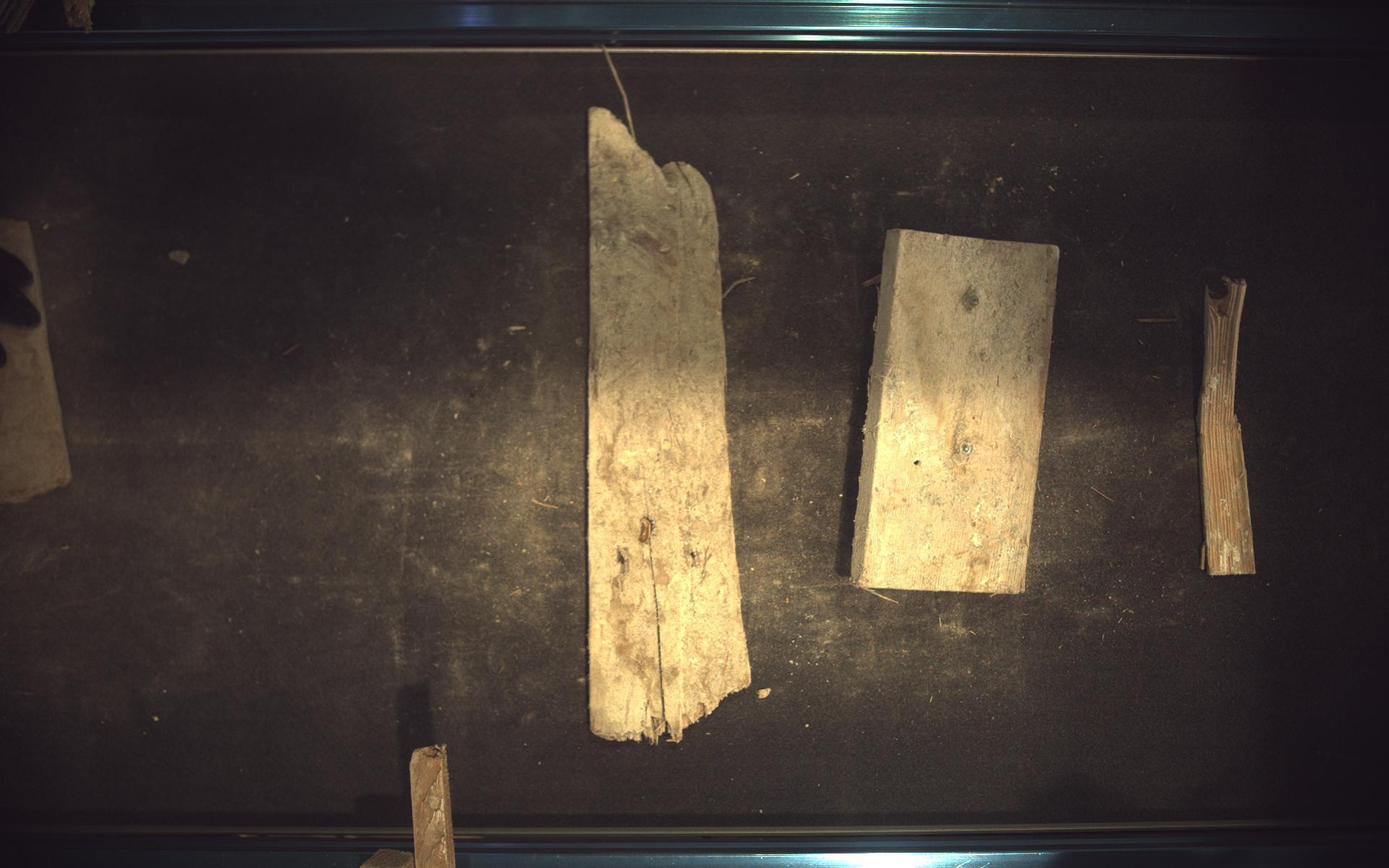wood: (589, 106, 752, 745), (853, 229, 1061, 594), (1, 218, 69, 503), (1202, 276, 1259, 576)
